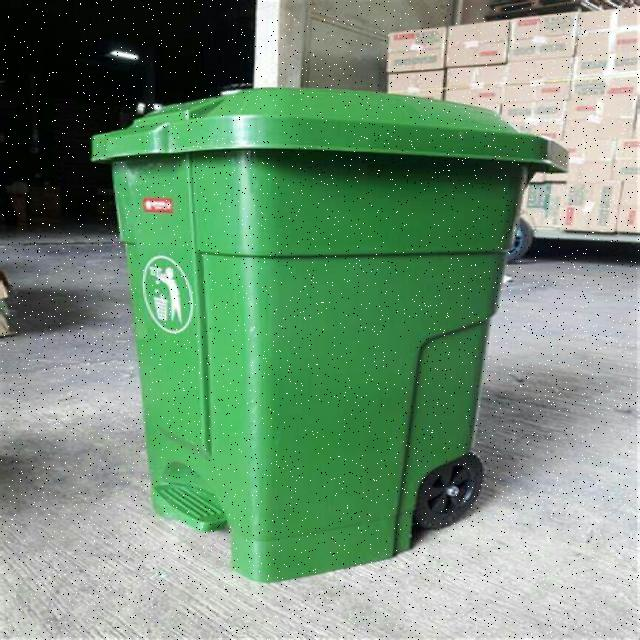garbage container: (71, 75, 580, 594)
